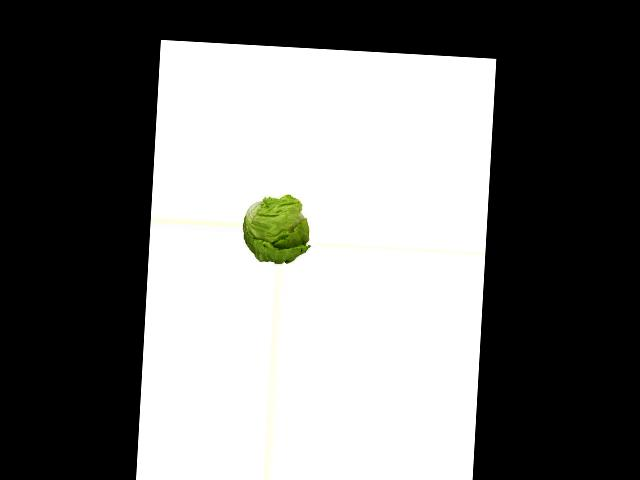lettuce: (238, 194, 311, 265)
